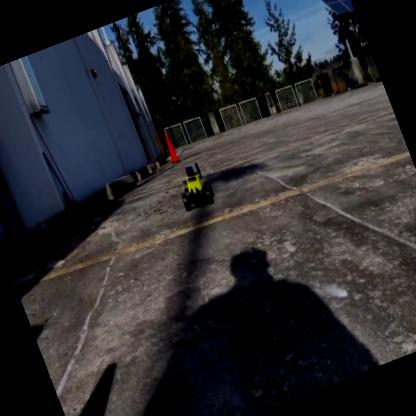cone: (162, 132, 181, 164)
mushr_car: (166, 150, 222, 218)
